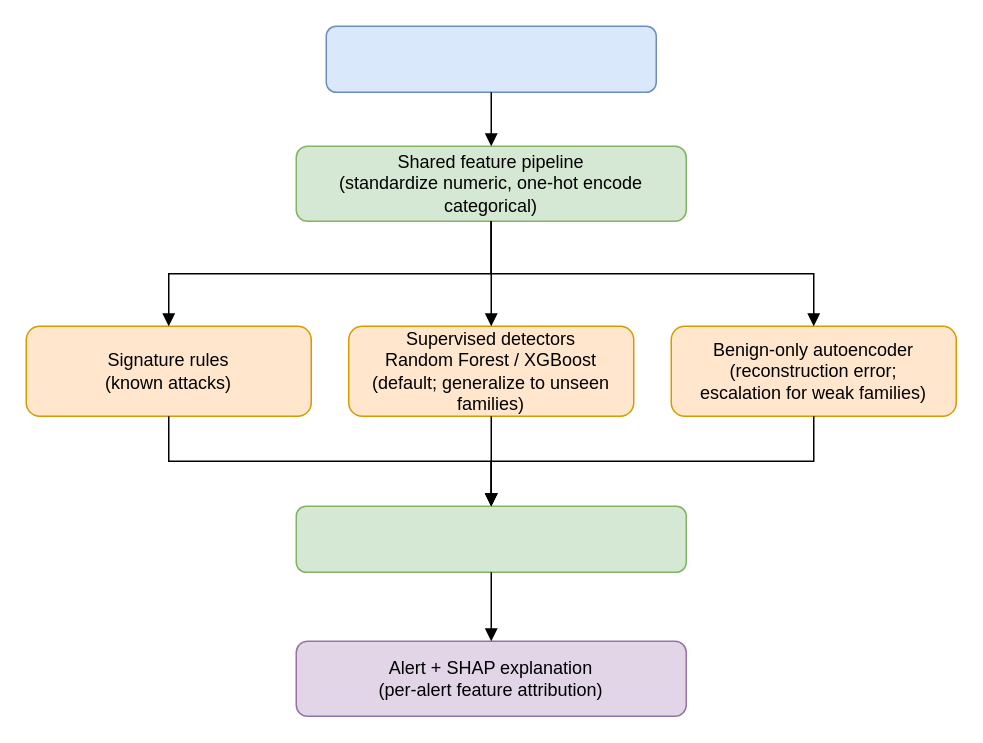
The diagram is 983 pixels wide and 743 high, and some of its shapes have lost their labels. Here are the shapes that lost their labels. From the top down, the centre of each, then its label:
[490,58]: Network flows (UNSW-NB15 / CIC-IDS2017)
[490,538]: Decision / fusion
